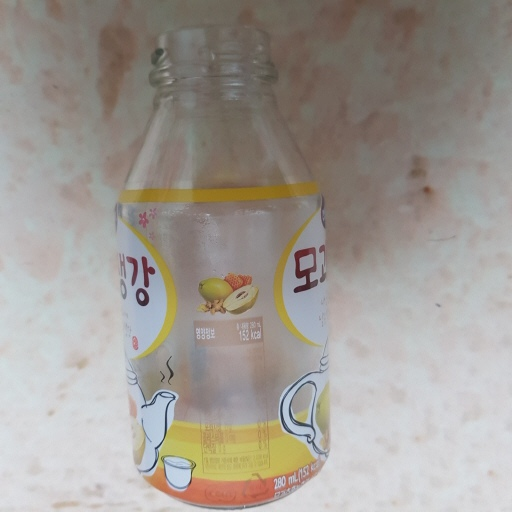Glass_4: (118, 28, 331, 509)
